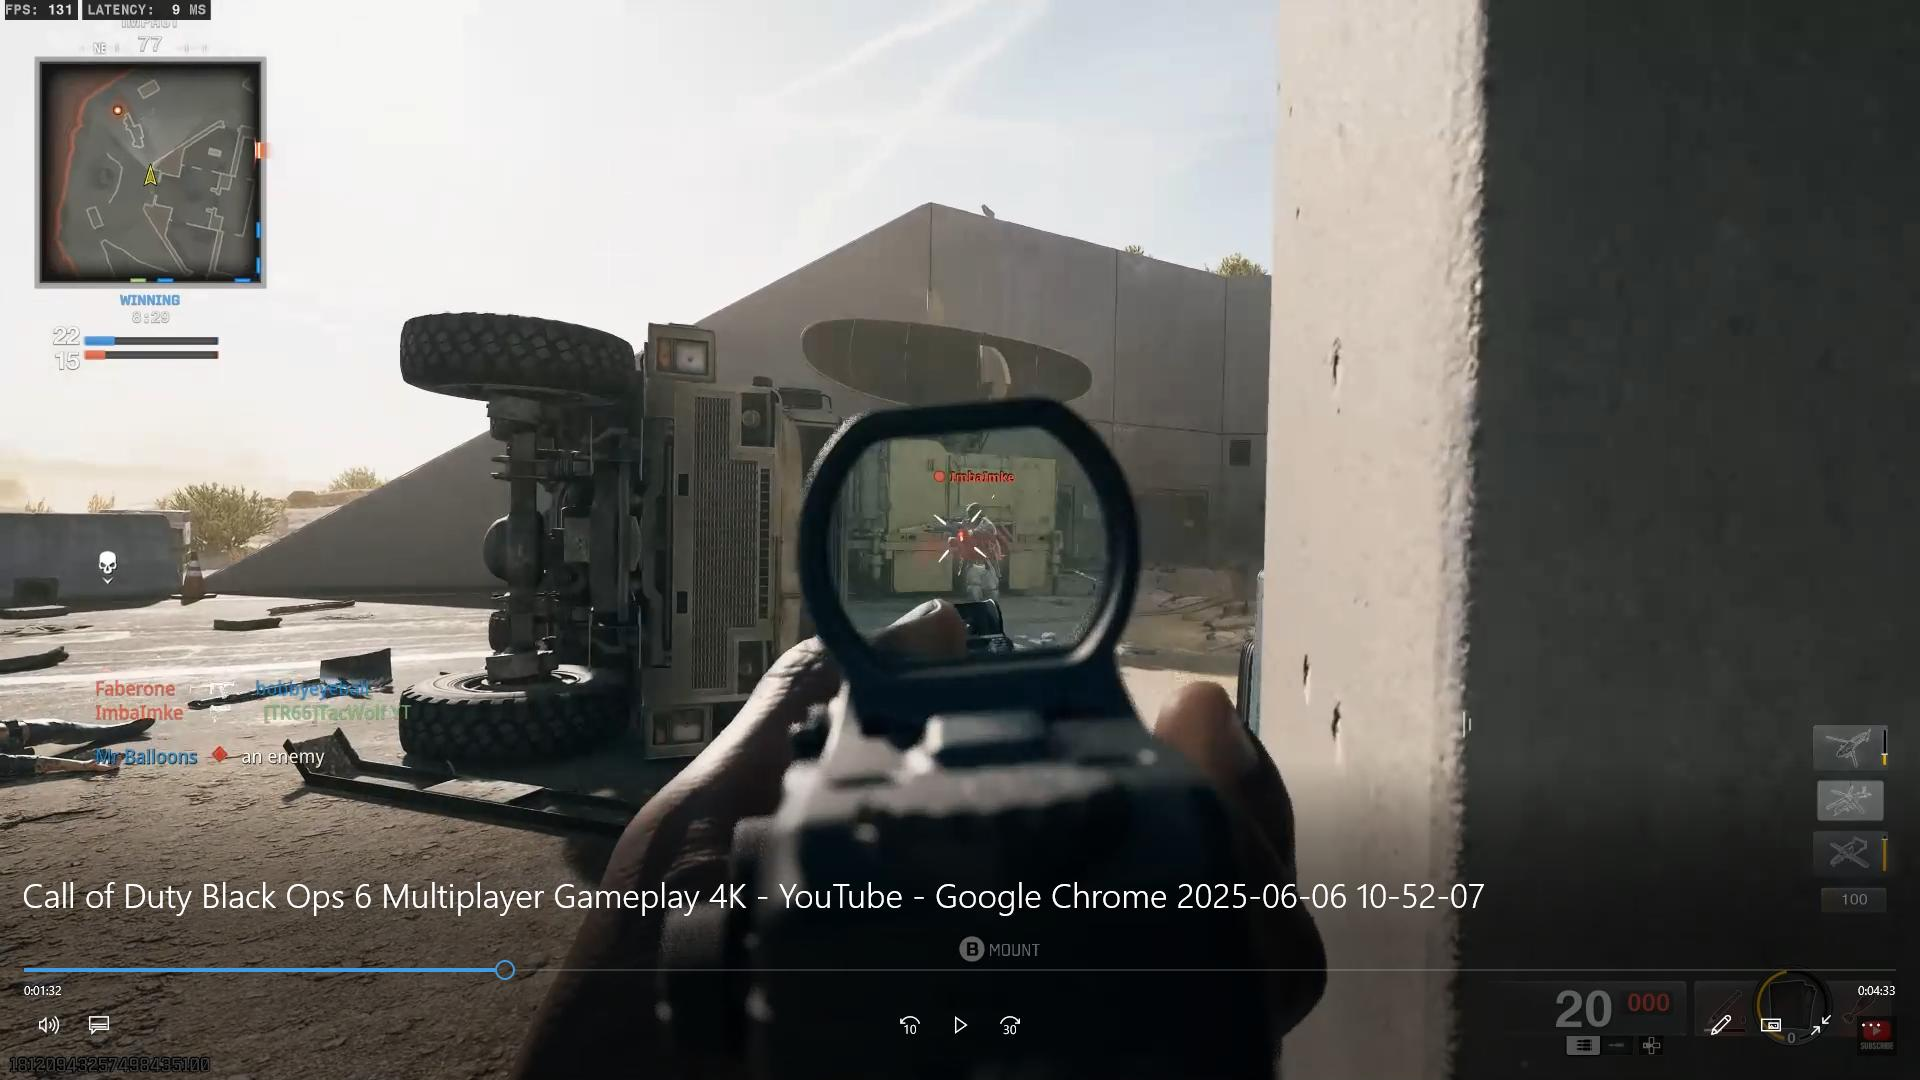Enemy: (930, 460, 1035, 596)
